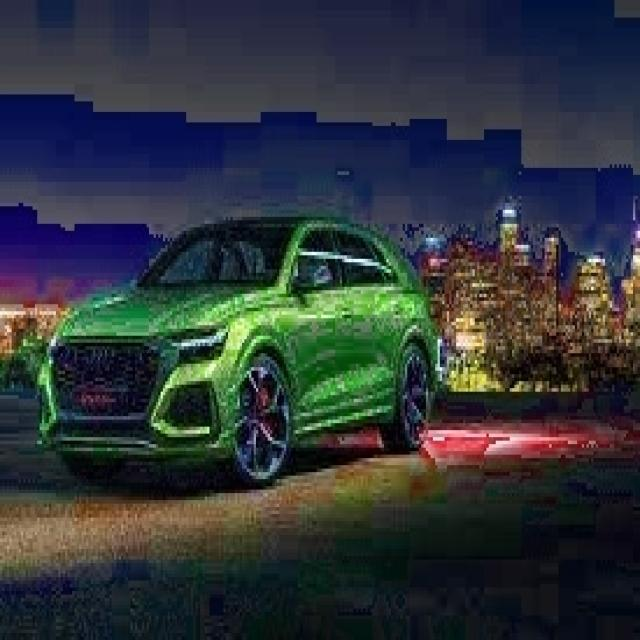green: (36, 210, 439, 486)
